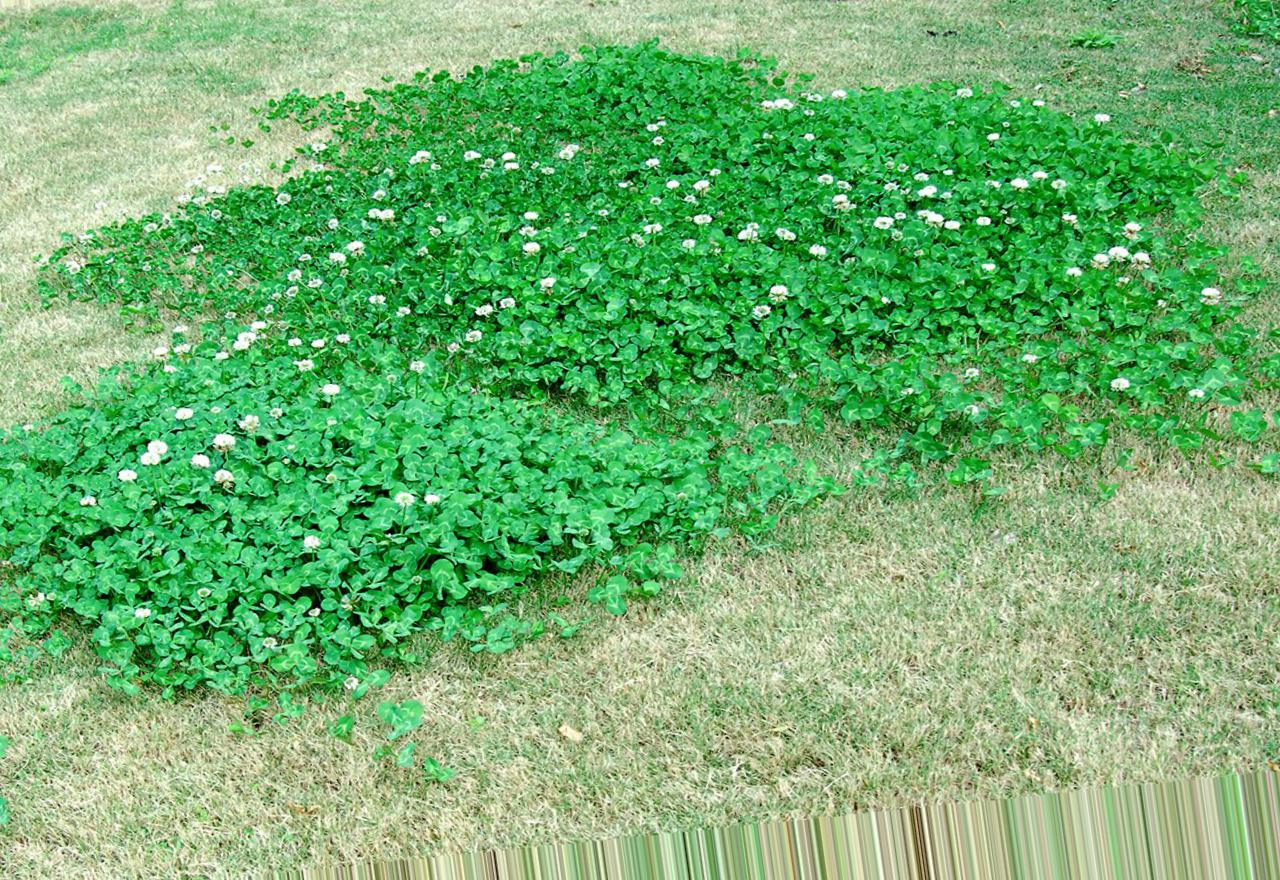patch: (865, 499, 1273, 764), (447, 665, 842, 801), (45, 725, 407, 849), (18, 87, 208, 210)
